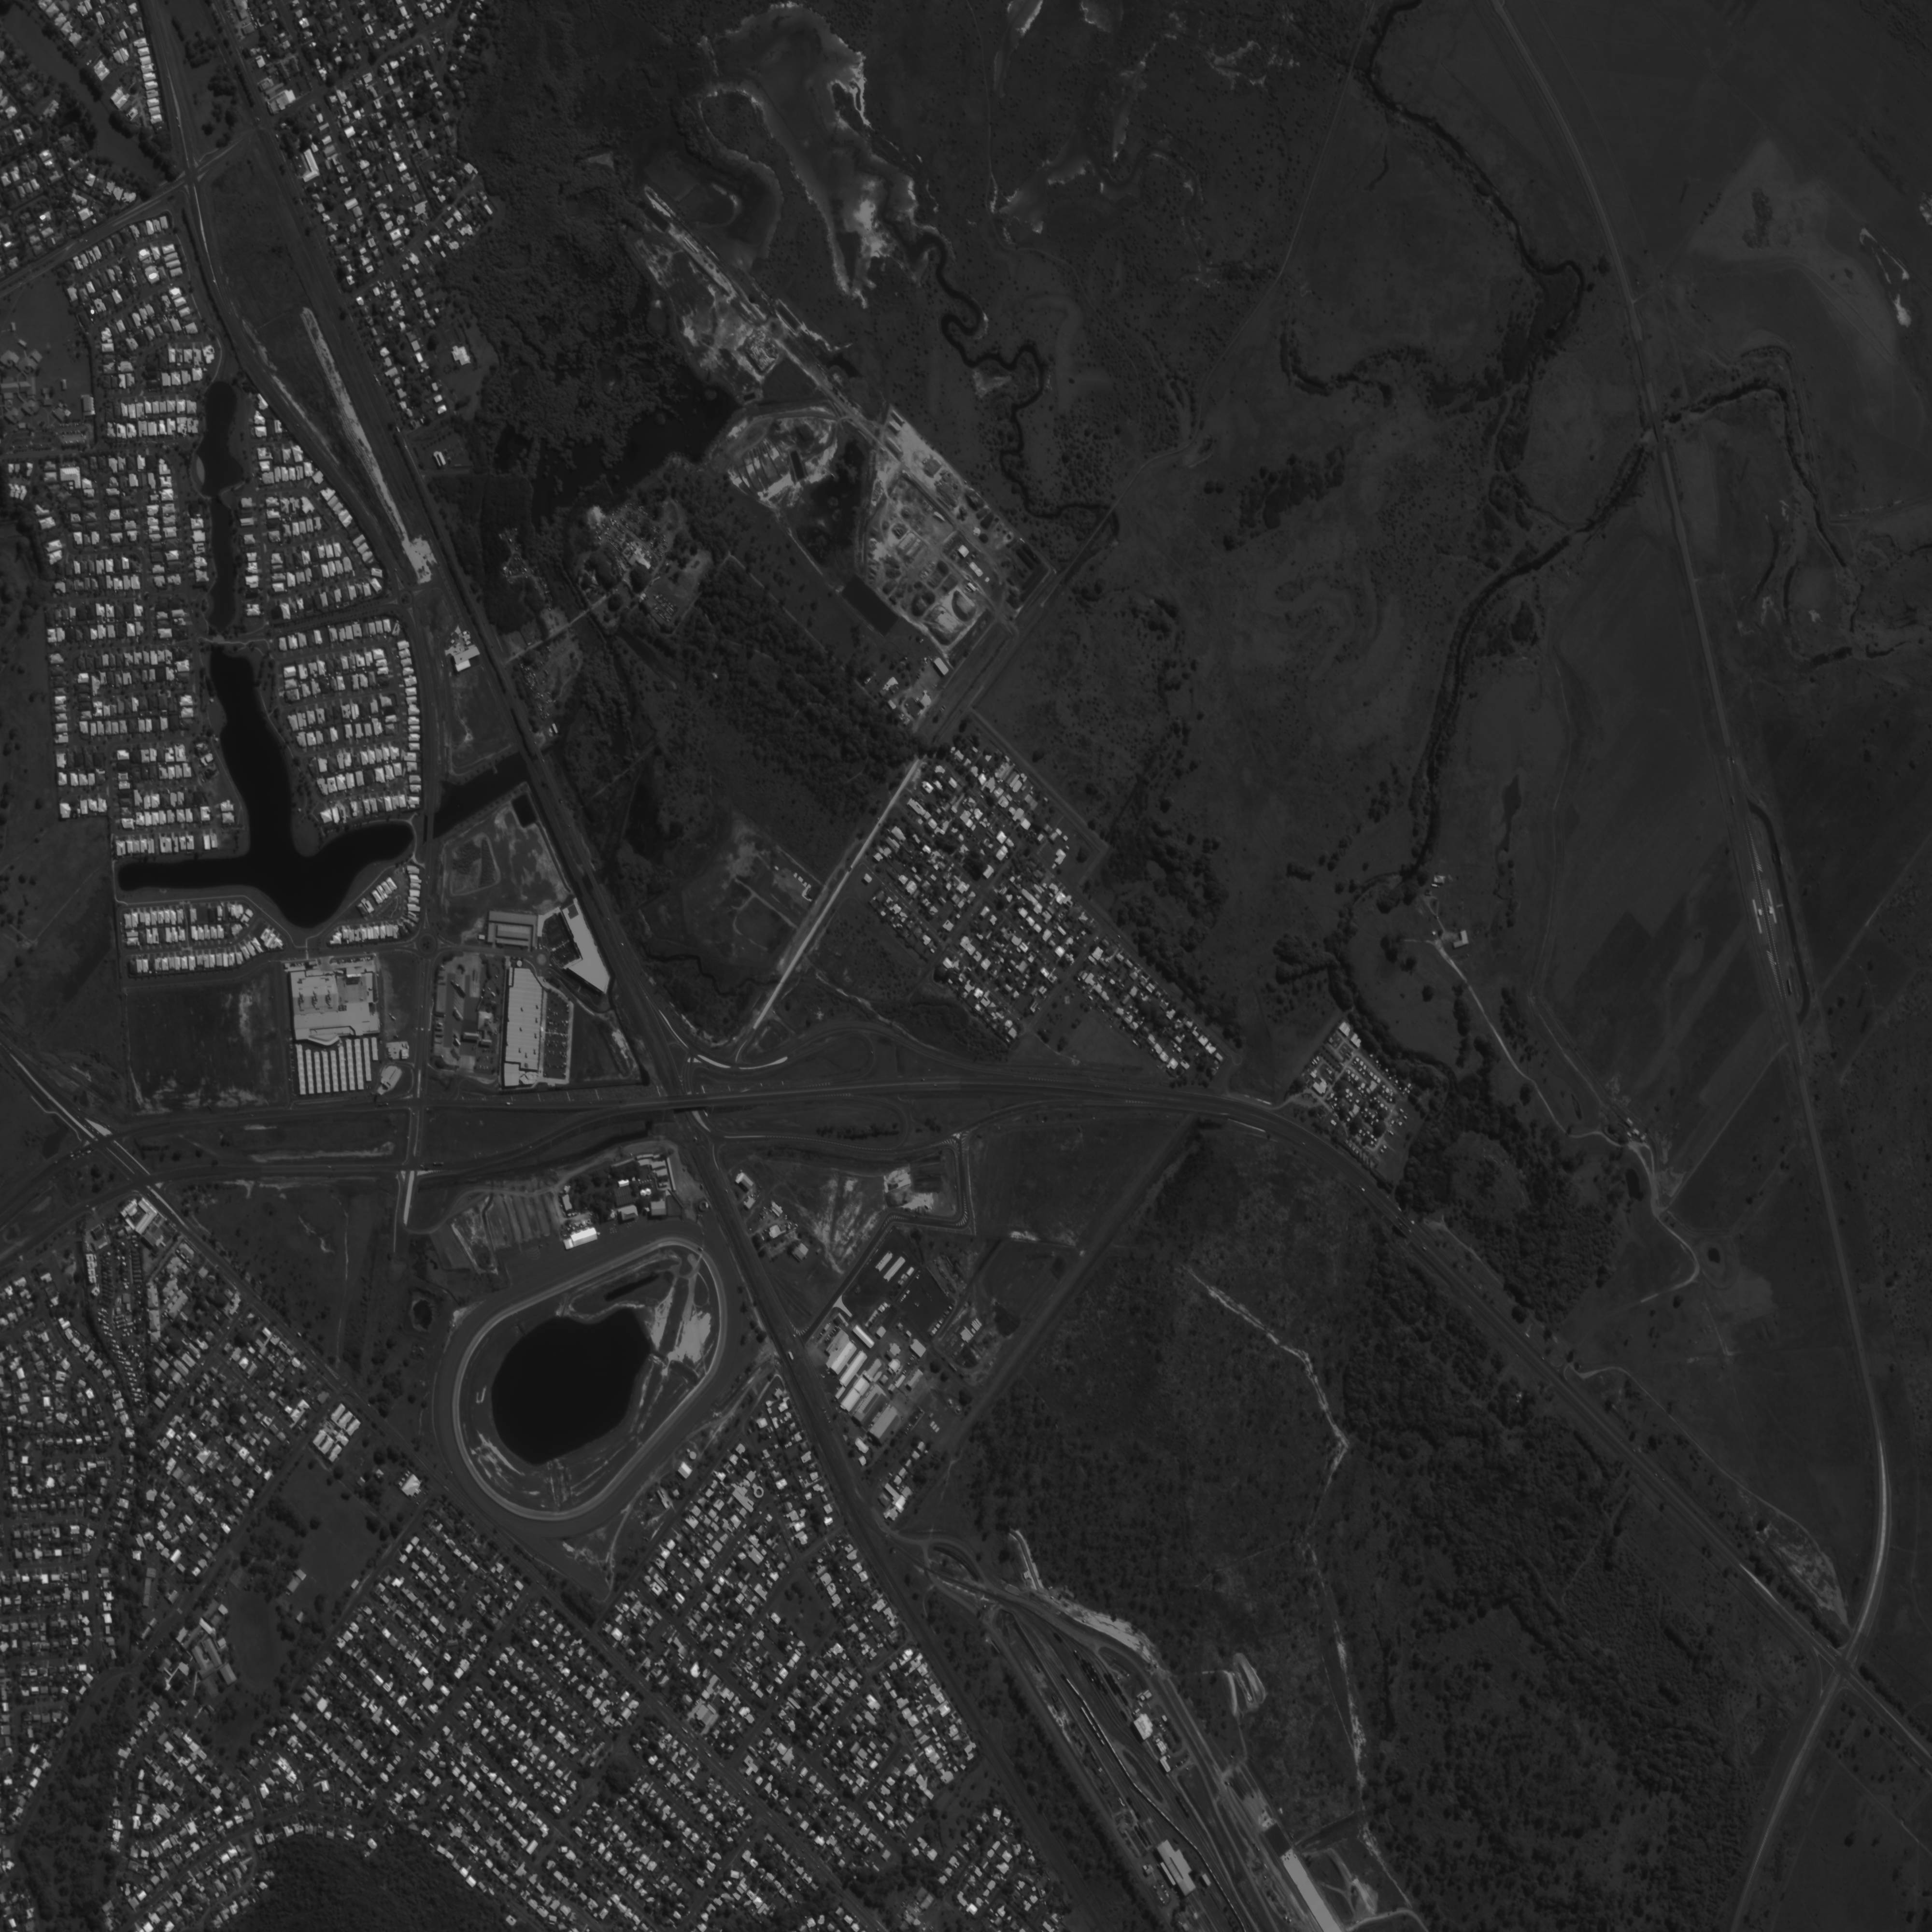bridge: (573, 874, 591, 901), (425, 807, 435, 847), (1652, 416, 1667, 444), (587, 870, 602, 892), (534, 748, 545, 763)
roundabout: (416, 932, 439, 955), (396, 587, 416, 610), (533, 952, 550, 968), (338, 1376, 350, 1389)
